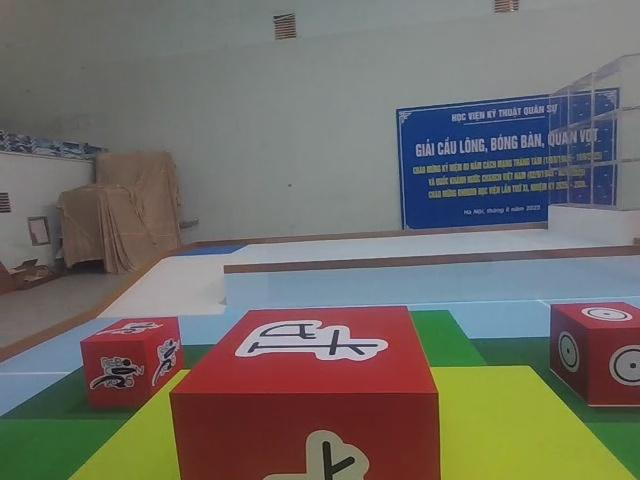R1: (80, 316, 186, 411)
R2 Real: (167, 294, 443, 478), (549, 304, 640, 410)
